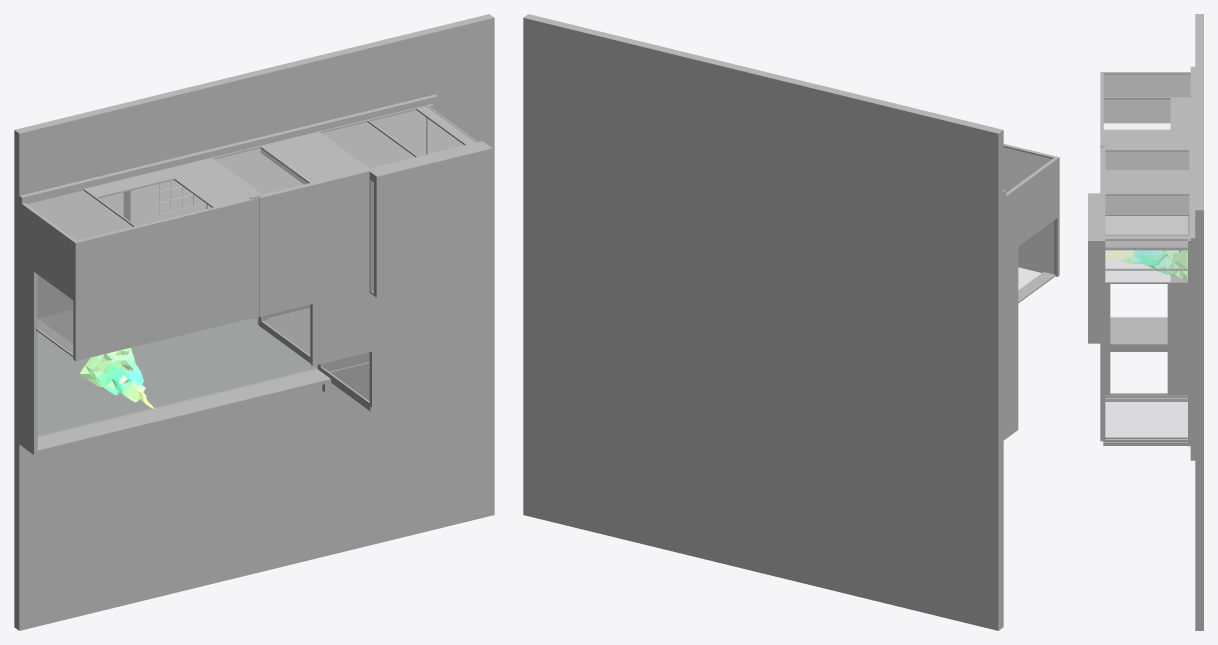
File: cloudybox.glb
3 renders of one model, left to right at view 1: azimuth 30°, elevation 25°; view 2: azimuth 150°, elevation 25°; view 3: azimuth 270°, elevation 25°, orthographic. The views are drawn at different scales.
Bounding box in the file's own units: 80 × 80 × 19.95.
